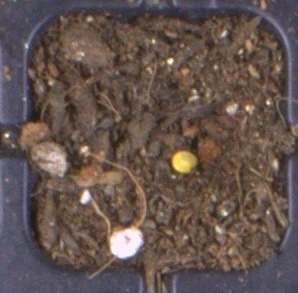chilli seed: (170, 150, 198, 173)
